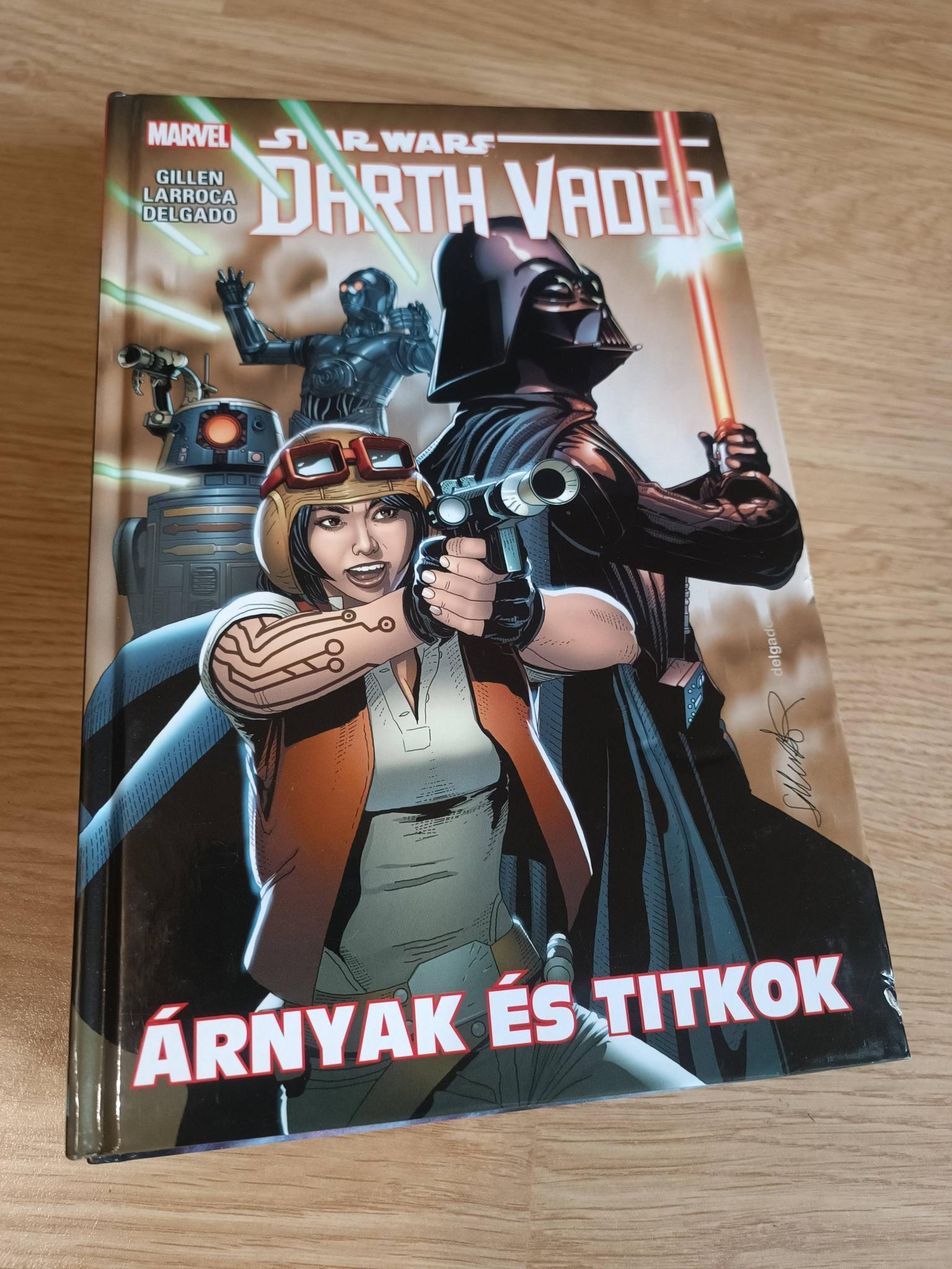comic: (68, 95, 907, 1159)
